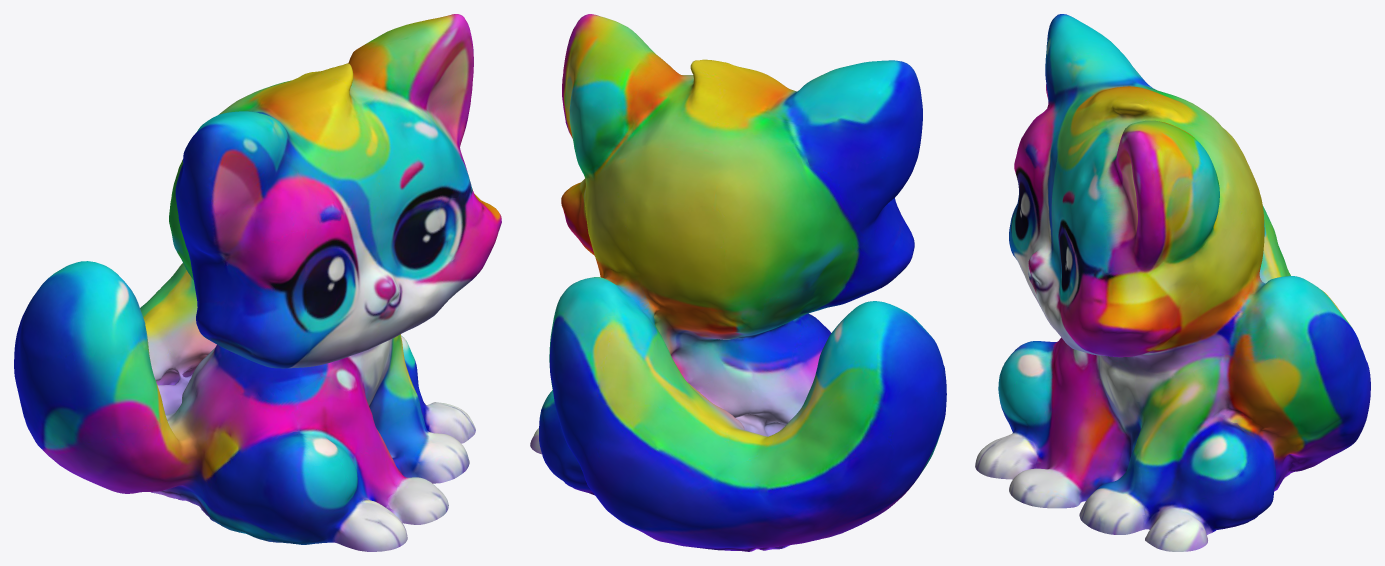
Rendered from PolyCat.glb.
3 views of the same model, side by side, from view 1: azimuth 30°, elevation 25°; view 2: azimuth 150°, elevation 25°; view 3: azimuth 270°, elevation 25° (orthographic). The views are drawn at different scales.
Visible parts, largest first — view 1: poly_stl_clone; view 2: poly_stl_clone; view 3: poly_stl_clone.
Part boxes in pixels (x1=…): poly_stl_clone: x1=14, y1=14, x2=501, y2=551; poly_stl_clone: x1=530, y1=14, x2=946, y2=551; poly_stl_clone: x1=975, y1=14, x2=1370, y2=551.
Bounding box in the file's own units: 25.96 × 25 × 22.23.
Materials: 1 (1 with a texture image).
